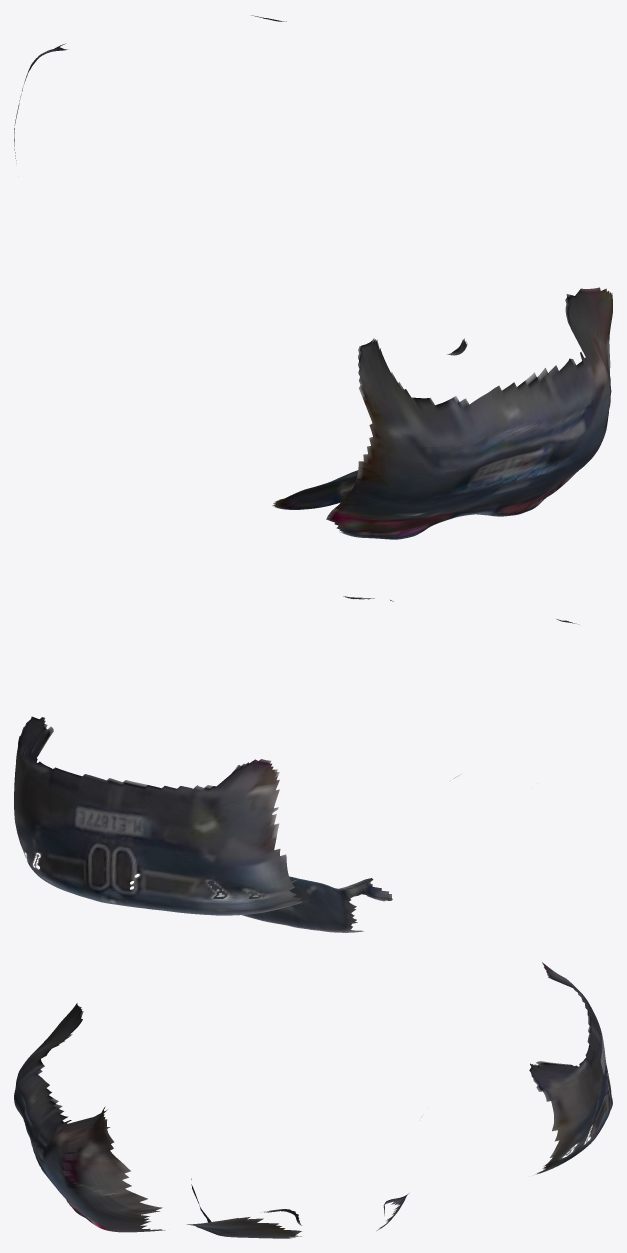
The model's file is scene_vggt_max_depth_3.0.glb.
The picture shows the model from 3 angles, top to bottom: view 1: azimuth 30°, elevation 25°; view 2: azimuth 150°, elevation 25°; view 3: azimuth 270°, elevation 25°; orthographic projection. The views are drawn at different scales.
Parts seen in each view (by area): view 1: world; view 2: world; view 3: world.
Boxes of the visible parts, x1,y1,x2,y2 form: world: [14, 15, 612, 539]; world: [14, 596, 578, 932]; world: [14, 962, 612, 1238].
Size of the model in its own units: 0.1809 by 0.1664 by 0.4177.
